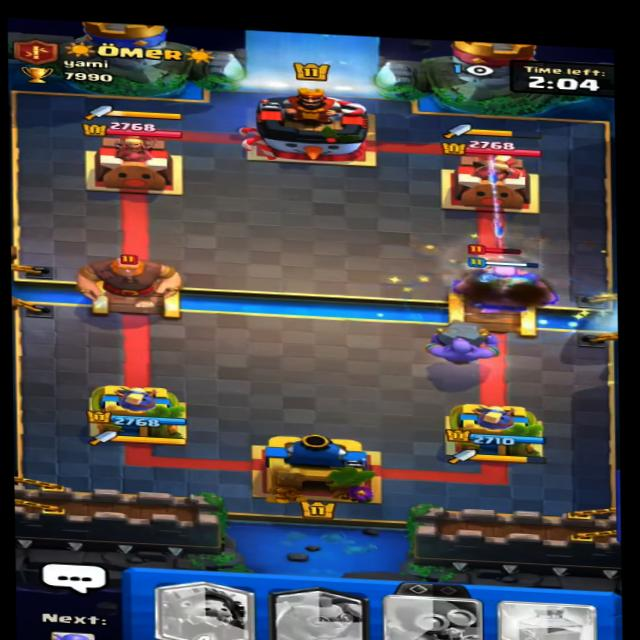giant: (74, 242, 187, 311)
